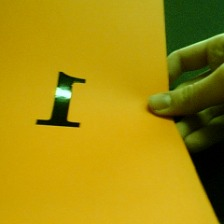orange1: (27, 64, 92, 133)
